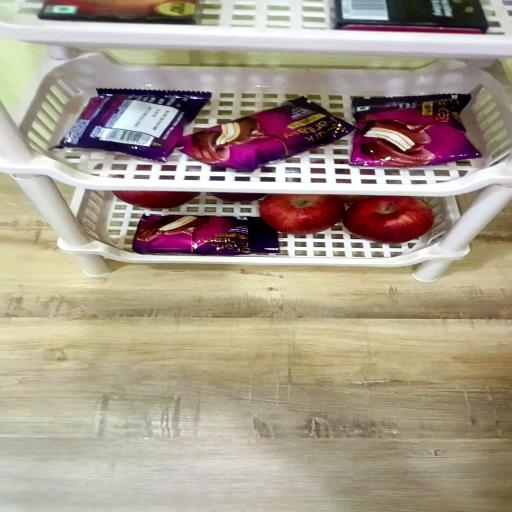Apple: (344, 198, 434, 245), (260, 196, 345, 236), (112, 192, 198, 212), (211, 192, 267, 202)
Choco Fills: (334, 0, 488, 34), (39, 0, 196, 24)
Choco Pie: (178, 96, 356, 172), (53, 88, 209, 161), (350, 92, 481, 166), (136, 216, 282, 257)
